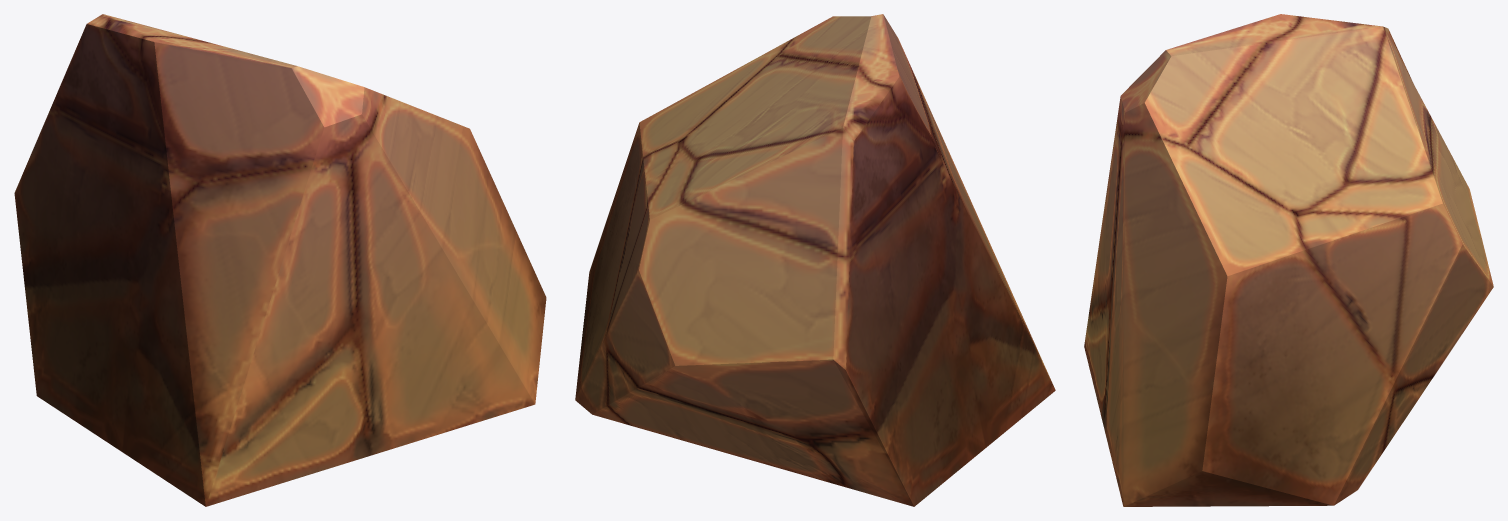
Rendered from rocks_4.fbx.
3 renders of one model, left to right at view 1: azimuth 30°, elevation 25°; view 2: azimuth 150°, elevation 25°; view 3: azimuth 270°, elevation 25°, orthographic. The views are drawn at different scales.
Parts seen in each view (by area): view 1: Cube.003_cell.053; view 2: Cube.003_cell.053; view 3: Cube.003_cell.053.
Boxes of the visible parts, x1,y1,x2,y2 form: Cube.003_cell.053: [14, 14, 546, 506]; Cube.003_cell.053: [575, 14, 1055, 506]; Cube.003_cell.053: [1084, 14, 1493, 506].
Size of the model in its own units: 147 by 127 by 132.
